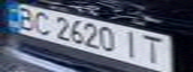0: (97, 25, 118, 54)
2: (81, 20, 103, 50), (51, 13, 72, 42)
6: (66, 18, 87, 46)
B: (12, 5, 39, 30)
C: (30, 9, 54, 35)
I: (118, 29, 145, 61)
T: (136, 34, 172, 65)
